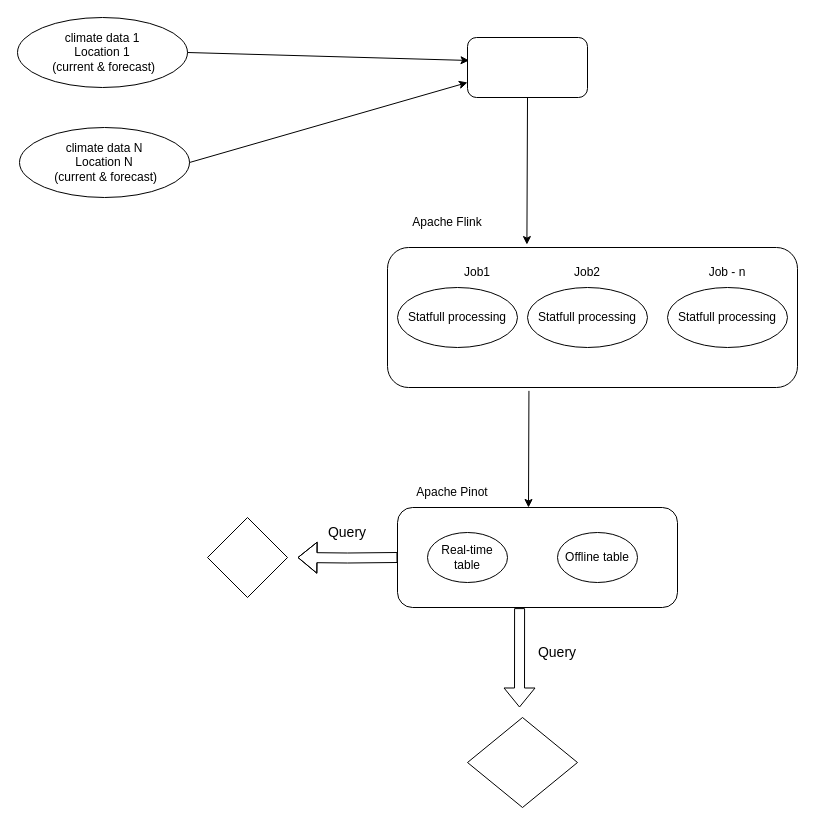
The diagram is 815 pixels wide and 825 high, and some of its shapes have lost their labels. Each missing label, with the centre of its shape:
Kafka cluster: (x=527, y=67)
Other Climate models: (x=522, y=762)
Spring App: (x=247, y=557)
